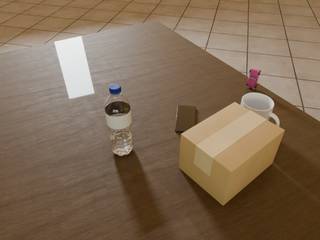bottle: (104, 84, 134, 156)
box: (179, 102, 285, 205)
cup: (241, 93, 279, 126)
phone: (175, 105, 196, 132)
toy_car: (247, 68, 261, 89)
